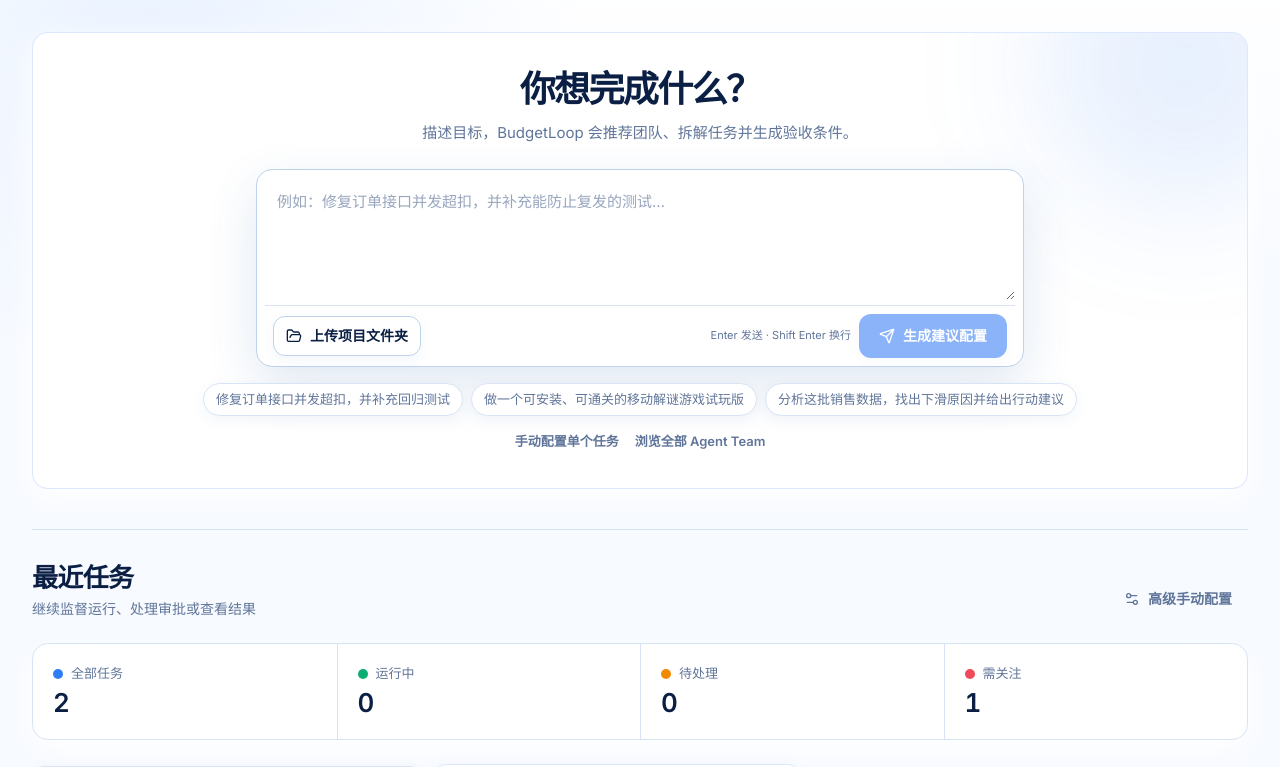
Test: home conversational intake › keeps attention tasks searchable and actionable while a draft is present
Type "新增一个可靠功能" into the text box named "描述想完成的目标" at {"x": 640, "y": 239}, box [265,178,1015,300]
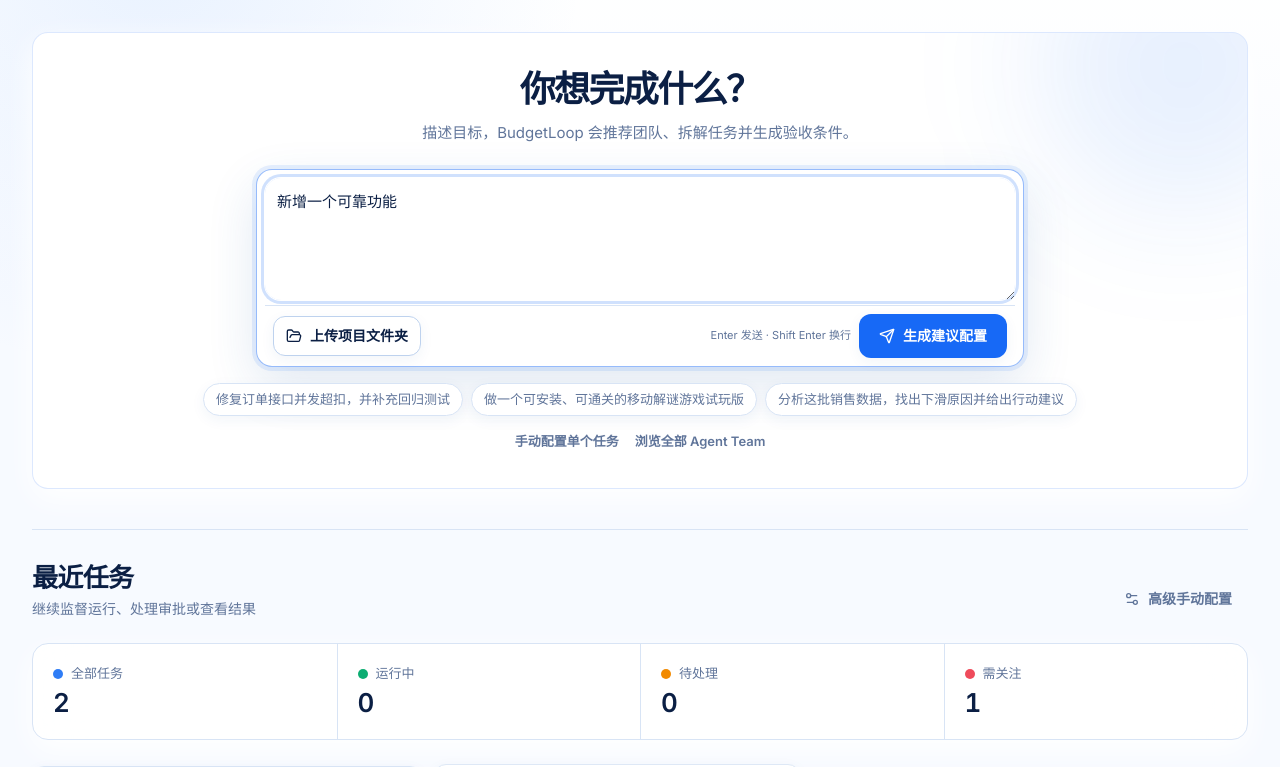
Click the button "生成建议配置" at {"x": 933, "y": 336}, box [859,314,1007,358]
(page scrolled)
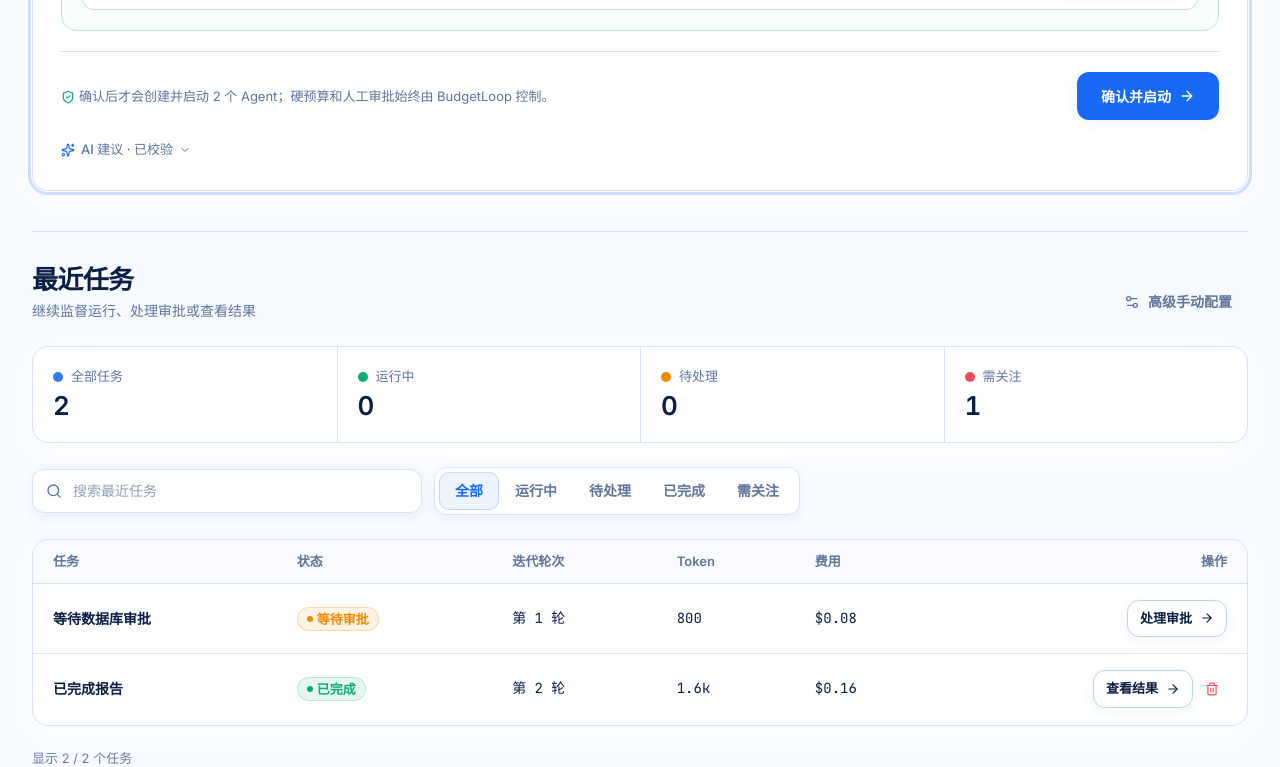
Expected: the text "等待数据库审批" is shown, [53,610,151,627]
Type "等待数据库" into the field with placeholder "搜索最近任务" at {"x": 227, "y": 491}, box [32,469,422,513]
(page scrolled)
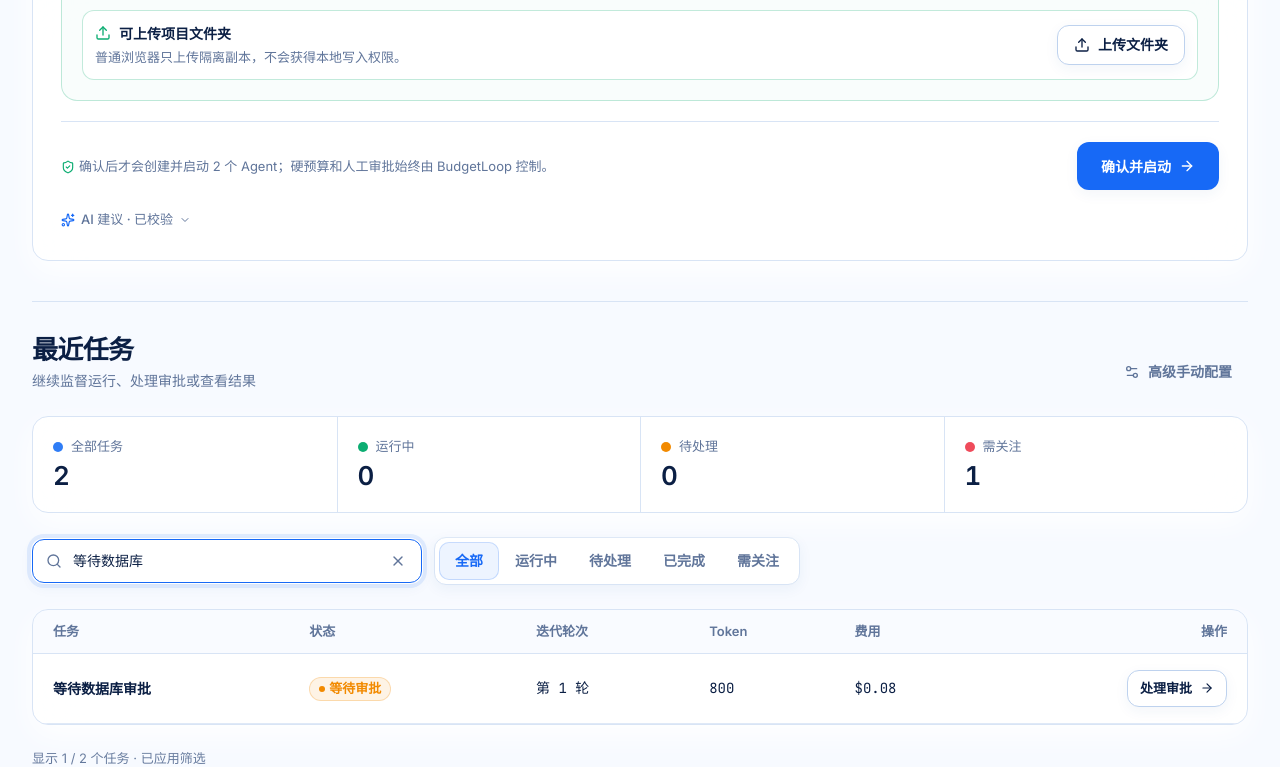
Expected: the text "等待数据库审批" is shown, [53,680,151,697]
Expected: the text "已完成报告" is gone
